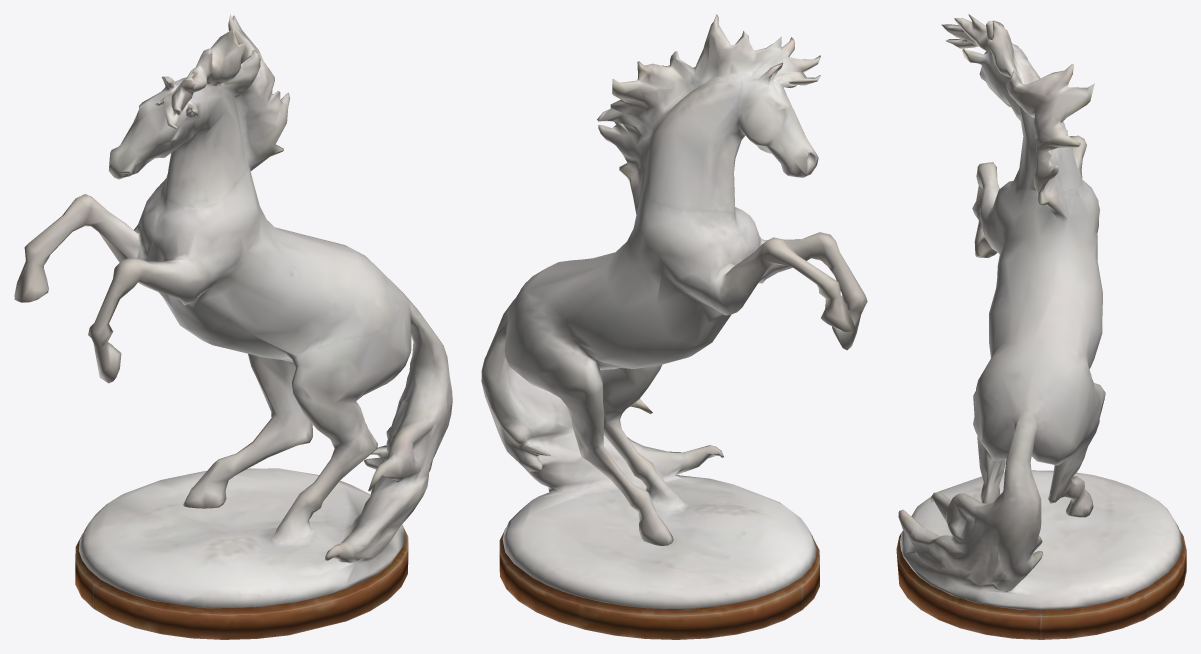
The model's file is horse_statue_01.glb.
The picture shows the model from 3 angles, left to right: view 1: azimuth 30°, elevation 25°; view 2: azimuth 150°, elevation 25°; view 3: azimuth 270°, elevation 25°; orthographic projection. The views are drawn at different scales.
Visible parts, largest first — view 1: horse_statue_01; view 2: horse_statue_01; view 3: horse_statue_01.
Boxes of the visible parts, x1,y1,x2,y2 form: horse_statue_01: (14, 14, 452, 639); horse_statue_01: (481, 14, 867, 639); horse_statue_01: (896, 14, 1186, 639).
Size of the model in its own units: 0.1638 by 0.22 by 0.1078.
Materials: 1 (1 with a texture image).
